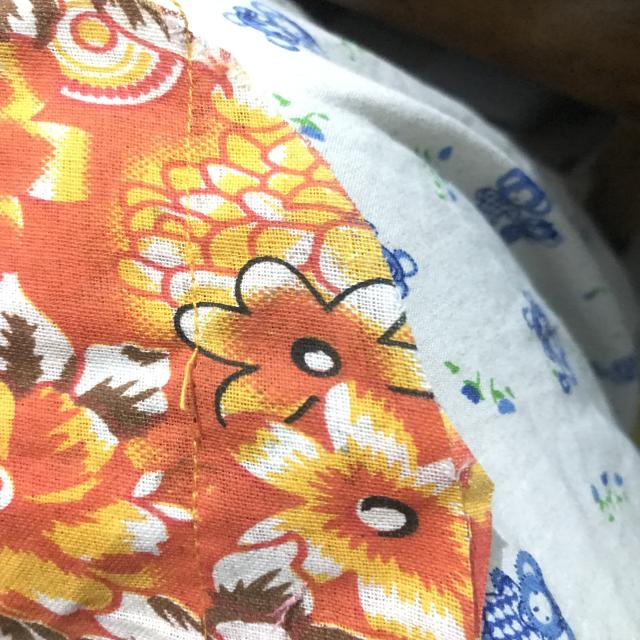broken: (168, 326, 220, 451)
good: (180, 484, 217, 556)
